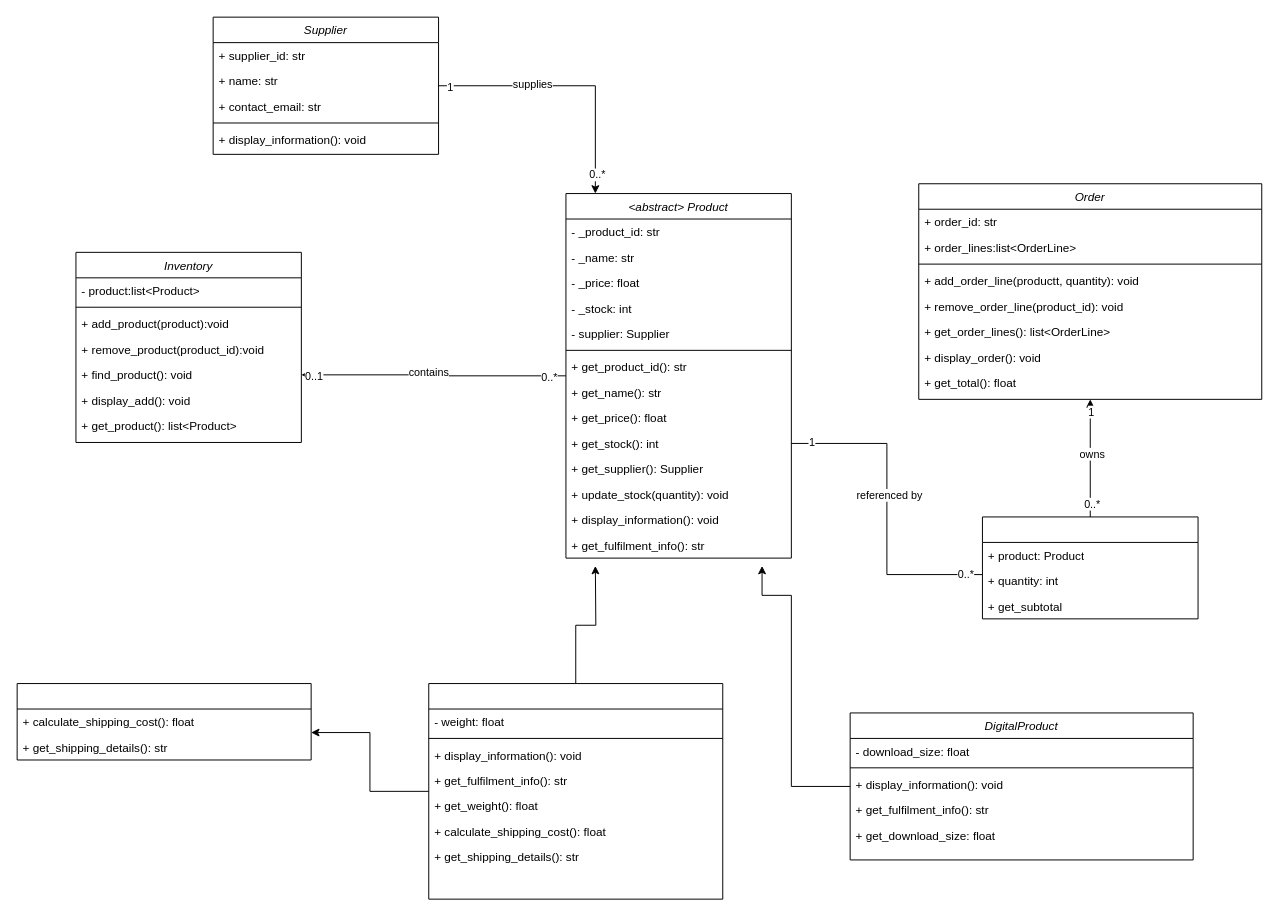
Some shapes in this 1279 by 916 pixel diagram are drawn without their labels. Here are the shapes that lost their labels. From the top down, the box of each, then its label:
(981, 516, 1198, 619): OrderLine
(16, 683, 311, 760): CanBeShipped
(428, 683, 723, 899): PhysicalProduct
